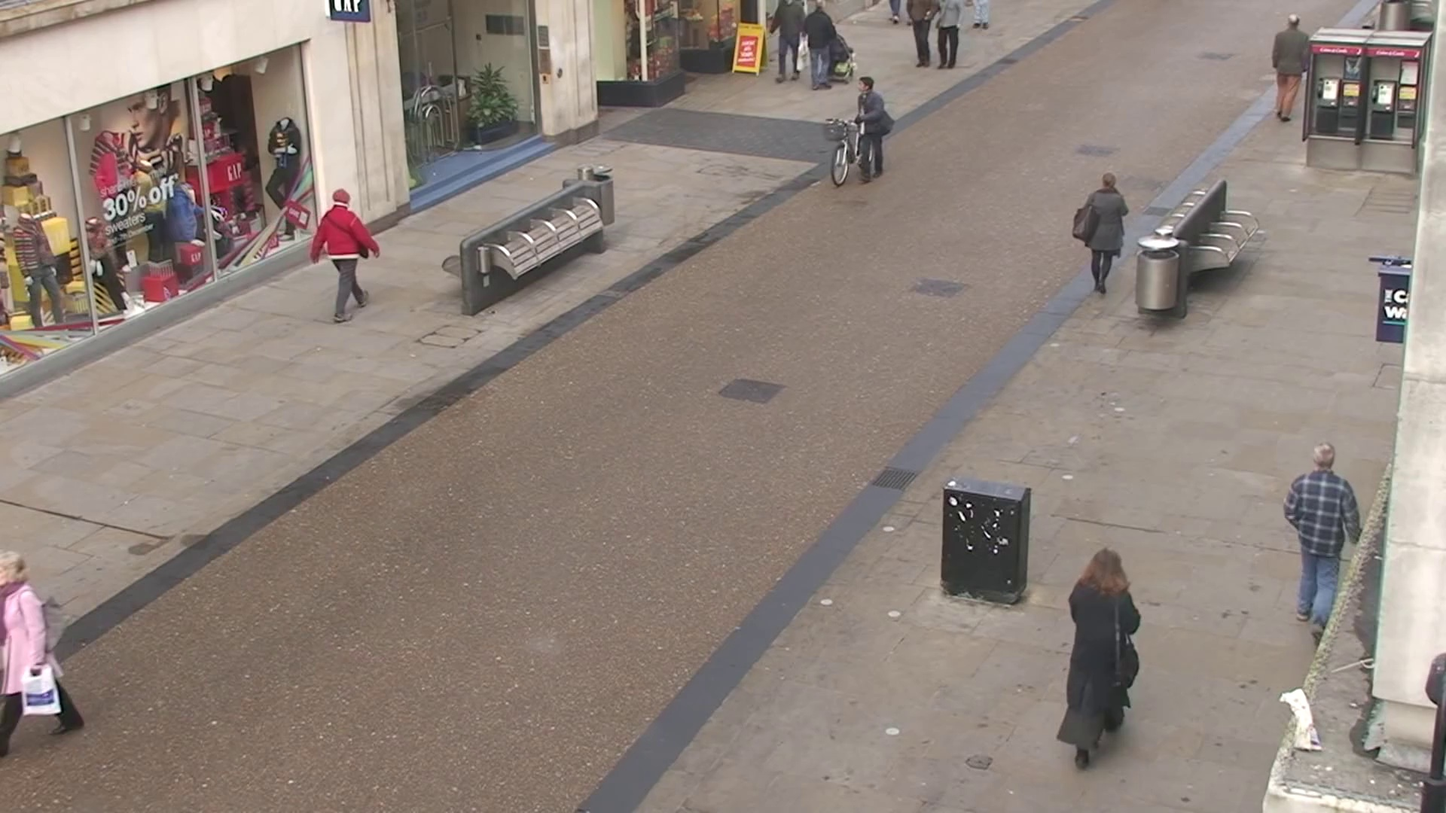person: (1056, 547, 1142, 771), (1283, 441, 1362, 625), (0, 553, 51, 760), (309, 187, 383, 321), (1072, 172, 1129, 294), (264, 116, 305, 228), (1271, 14, 1312, 124), (856, 75, 894, 175), (803, 2, 843, 88), (932, 0, 965, 69), (909, 2, 938, 69)
